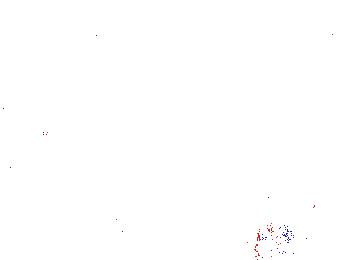flame jellyfish: (252, 193, 314, 250), (20, 76, 68, 139), (101, 169, 149, 222)
